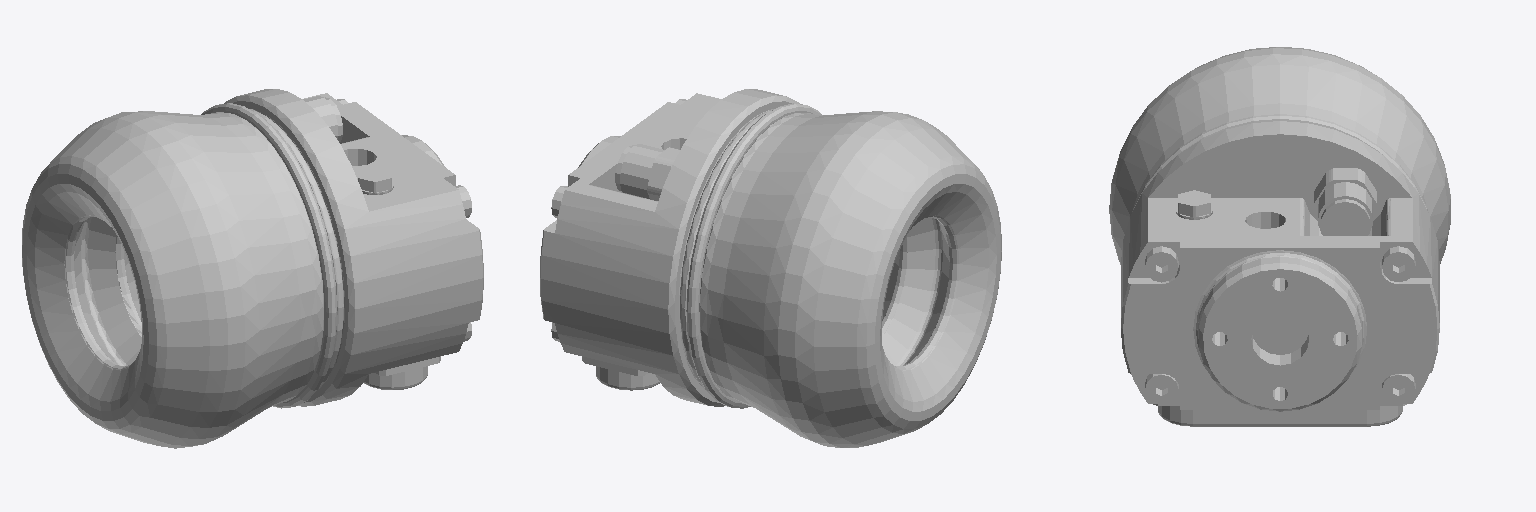
The model's file is SGB1000.obj.
3 views of the same model, side by side, from view 1: azimuth 30°, elevation 25°; view 2: azimuth 150°, elevation 25°; view 3: azimuth 270°, elevation 25° (orthographic).
Visible parts, largest first — view 1: ボディ1; view 2: ボディ1; view 3: ボディ1.
Boxes of the visible parts, <box> form: ボディ1: <box>22,89,483,448</box>; ボディ1: <box>540,89,1001,447</box>; ボディ1: <box>1109,47,1450,426</box>.
Size of the model in its own units: 81.43 by 70.73 by 70.66.